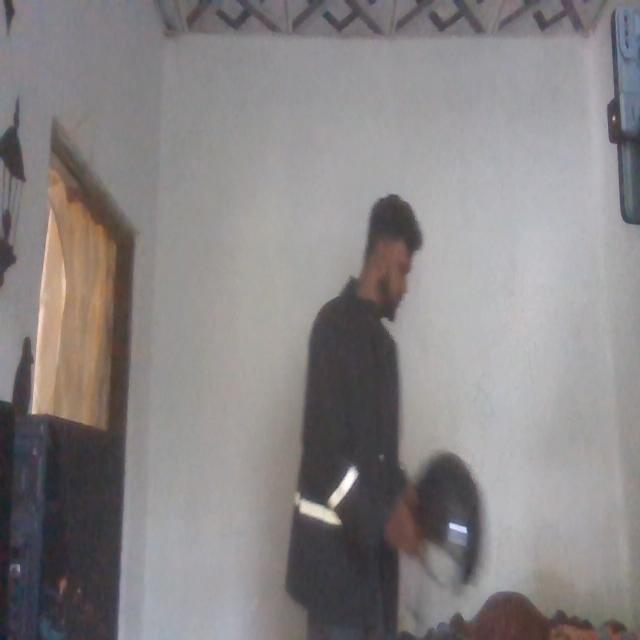Jacket_Wearer: (293, 281, 417, 597)
Person: (289, 174, 480, 640)
